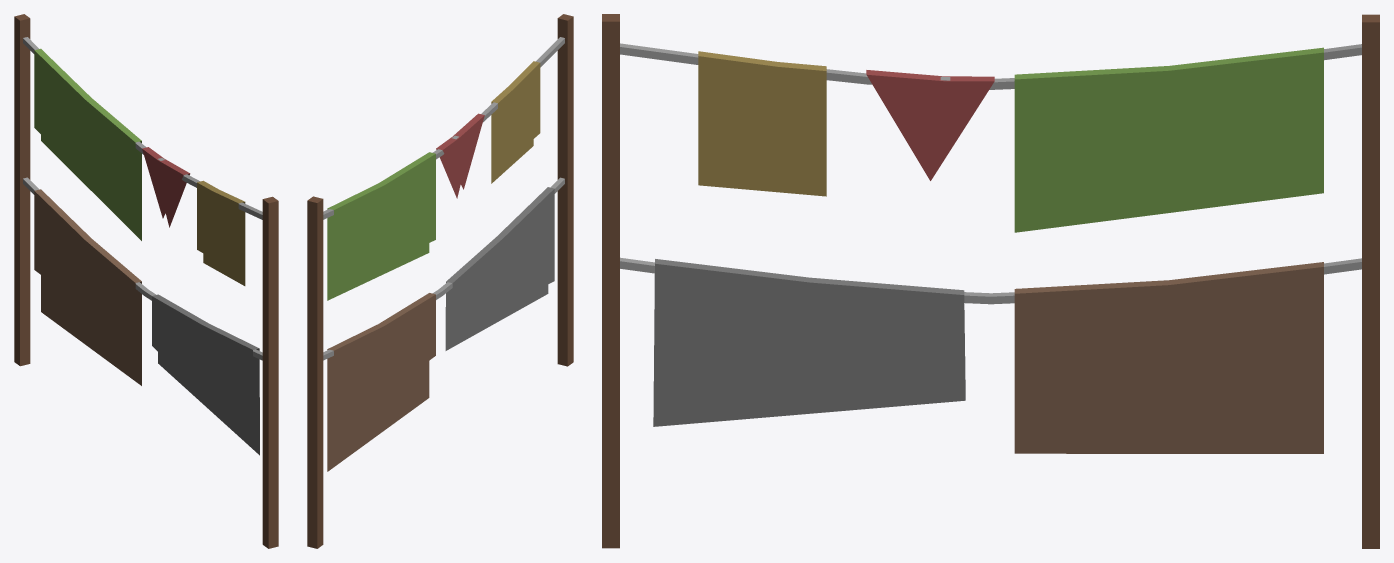
Rendered from outsideDryer_02.fbx.
3 renders of one model, left to right at view 1: azimuth 30°, elevation 25°; view 2: azimuth 150°, elevation 25°; view 3: azimuth 270°, elevation 25°, orthographic. The views are drawn at different scales.
Visible parts, largest first — view 1: outsideDryer_02; view 2: outsideDryer_02; view 3: outsideDryer_02.
Boxes of the visible parts, box(x1,y1,x2,y2) form: outsideDryer_02: box(14, 14, 278, 548); outsideDryer_02: box(307, 14, 573, 548); outsideDryer_02: box(602, 14, 1379, 548).
Bounding box in the file's own units: 12.53 × 376 × 503.
